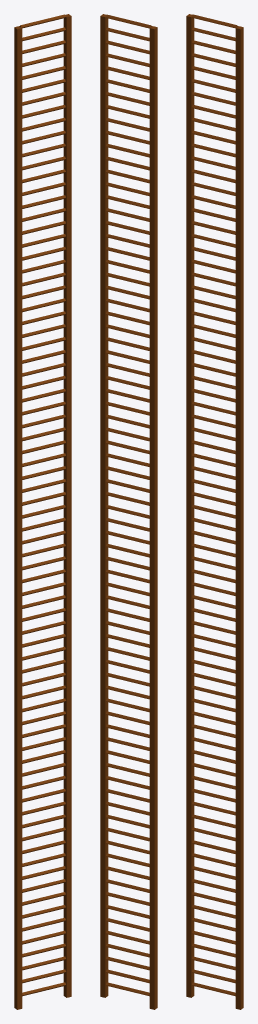
File: ladder.gltf
3 views of the same model, side by side, from view 1: azimuth 30°, elevation 25°; view 2: azimuth 150°, elevation 25°; view 3: azimuth 330°, elevation 25° (orthographic).
Parts seen in each view (by area): view 1: Ladder.012, Ladder.009, Ladder.010, Ladder.011; view 2: Ladder.012, Ladder.009, Ladder.010, Ladder.011; view 3: Ladder.012, Ladder.009, Ladder.010, Ladder.011.
Part boxes in pixels (x1,y1,x2,y2): Ladder.012: (14, 14, 71, 274); Ladder.009: (14, 750, 71, 1009); Ladder.010: (14, 505, 71, 764); Ladder.011: (14, 259, 71, 519); Ladder.012: (100, 14, 157, 274); Ladder.009: (100, 750, 157, 1009); Ladder.010: (100, 505, 157, 764); Ladder.011: (100, 260, 157, 519); Ladder.012: (186, 14, 243, 274); Ladder.009: (186, 750, 243, 1009); Ladder.010: (186, 505, 243, 764); Ladder.011: (186, 259, 243, 519).
Size of the model in its own units: 2.2 by 38.07 by 0.2.
